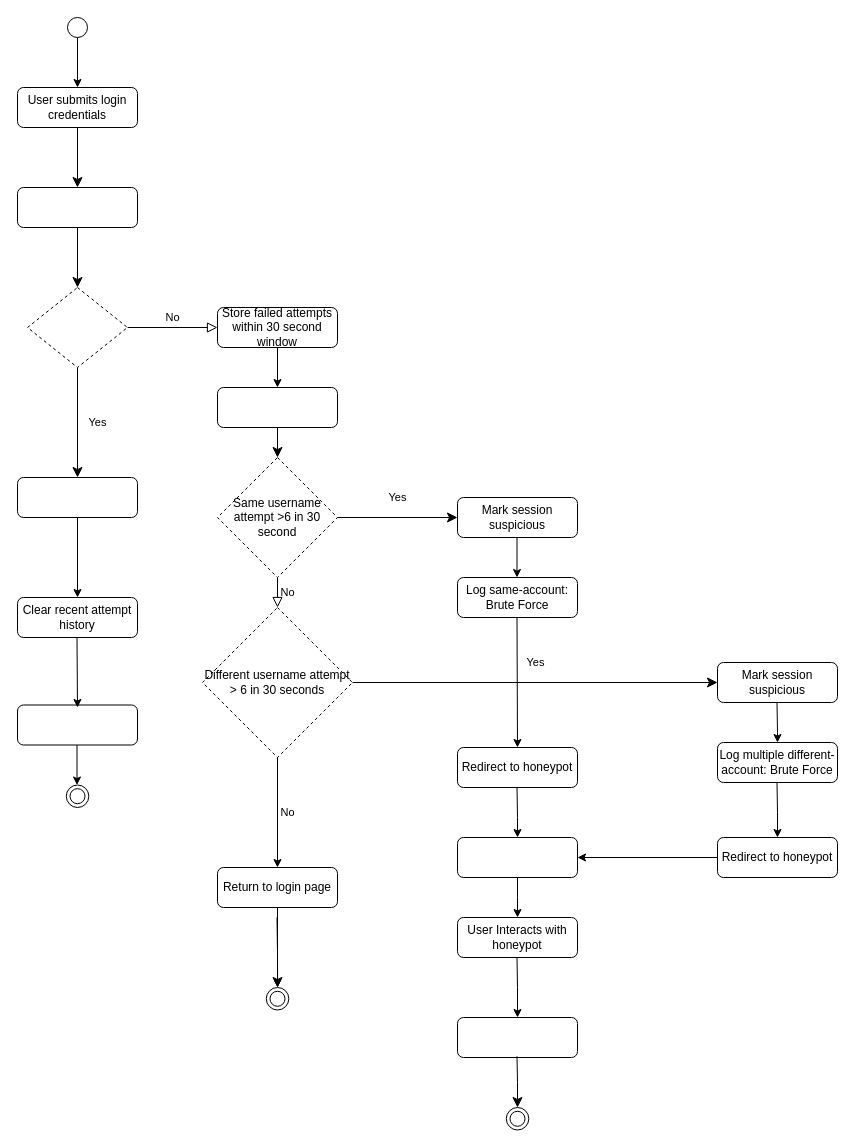
This 855x1148 diagram has some shape labels left out. Each missing label, with the centre of its shape:
Failed login: [277,407]
Grand normal access: [77,497]
Log honeypot access: [517,857]
Log honeypot action: [517,1037]
Login Success: [77,724]
Valid credentialls?: [77,327]
Validate Credentials: [77,207]
